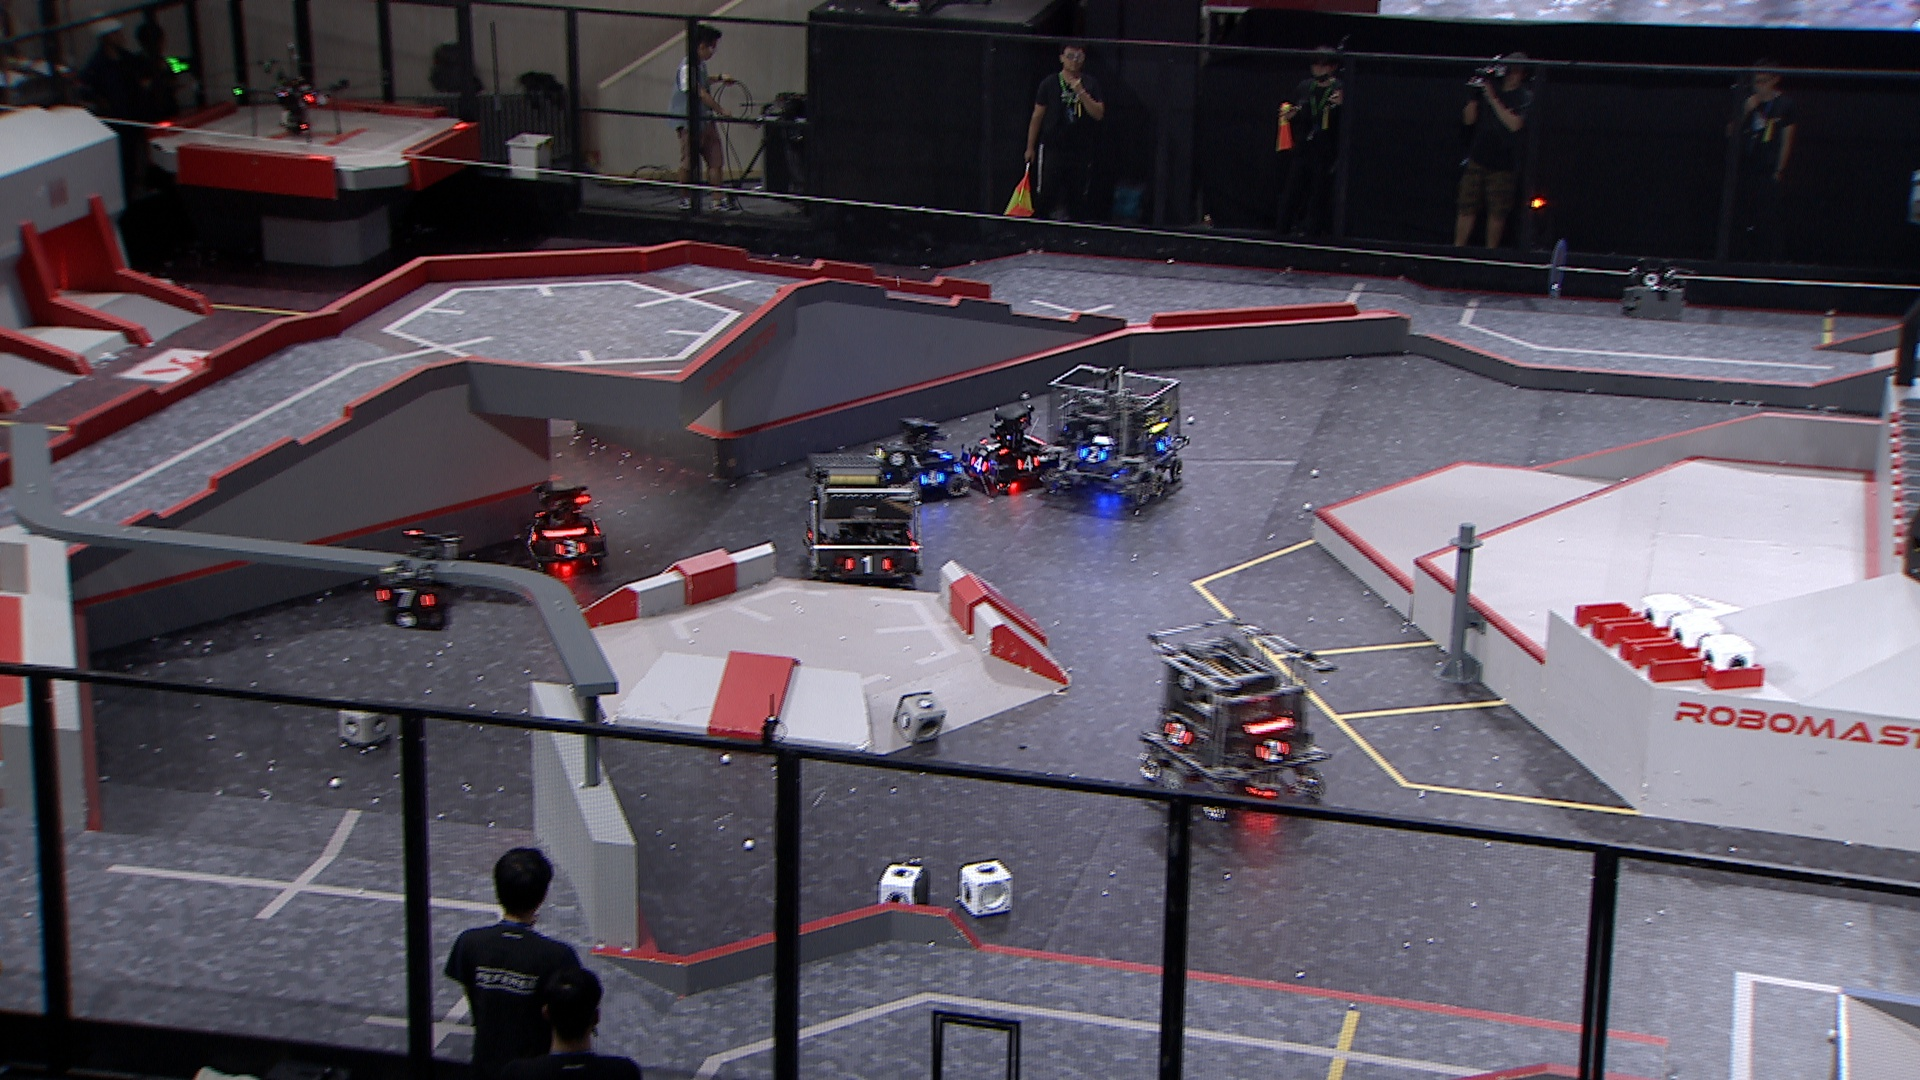armor: (373, 585, 436, 611), (847, 555, 894, 575), (1253, 738, 1290, 764), (1160, 723, 1193, 750), (553, 541, 588, 560), (1079, 444, 1109, 465), (977, 438, 1007, 458), (918, 469, 948, 487), (1015, 454, 1040, 472), (968, 456, 992, 475), (930, 446, 953, 462), (1156, 433, 1174, 452), (524, 526, 538, 549)
car: (1135, 616, 1338, 825), (1039, 363, 1189, 512), (799, 451, 928, 589), (513, 477, 613, 576), (957, 400, 1058, 495), (872, 413, 971, 500)
watcher: (363, 529, 468, 633)
